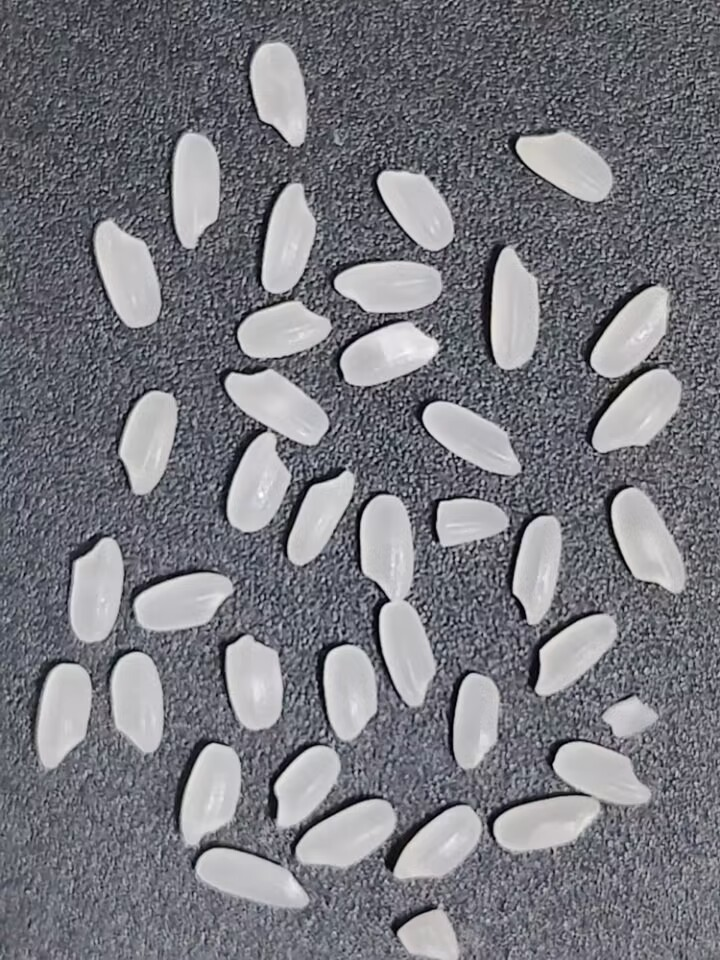broken: (432, 485, 518, 557), (391, 902, 470, 960), (598, 686, 659, 741)
rice: (216, 360, 335, 451), (603, 483, 694, 598), (587, 362, 689, 460), (580, 278, 678, 379), (416, 393, 524, 480), (91, 213, 166, 337), (243, 39, 318, 154), (192, 848, 313, 919), (514, 127, 621, 207), (483, 793, 607, 862), (526, 609, 620, 700), (108, 384, 183, 497), (174, 739, 249, 852), (281, 463, 358, 570), (287, 798, 400, 870), (339, 316, 443, 394), (547, 734, 655, 809), (487, 244, 546, 380), (253, 179, 318, 300), (223, 428, 294, 538), (27, 658, 93, 776), (373, 597, 442, 709), (372, 164, 458, 253), (392, 802, 483, 886), (62, 535, 126, 652), (124, 570, 240, 634), (165, 125, 222, 254), (508, 512, 569, 631), (441, 666, 508, 774), (358, 491, 418, 605), (231, 297, 340, 359), (325, 258, 445, 314), (107, 651, 170, 756), (219, 633, 284, 733), (269, 743, 342, 832), (318, 645, 381, 748)
